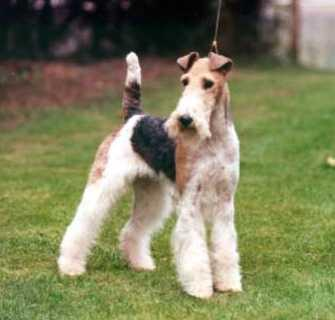wire-haired_fox_terrier: (55, 44, 239, 297)
